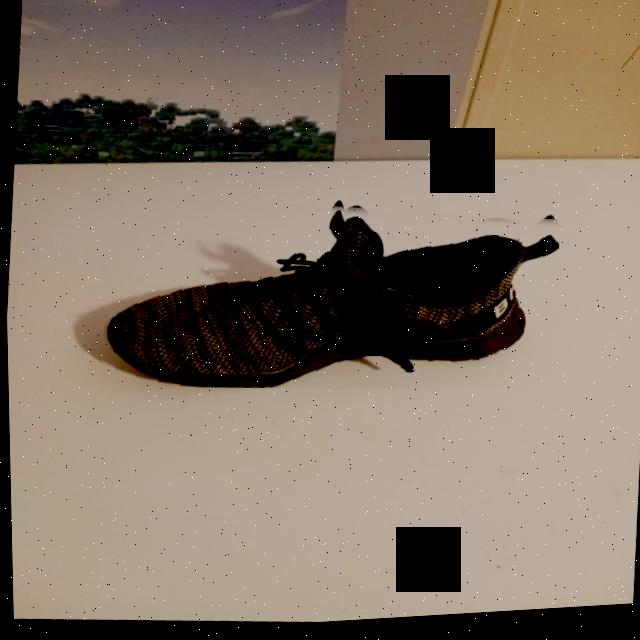shoe: (91, 174, 563, 418)
